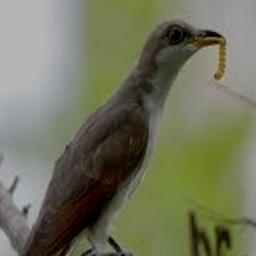Cuckoo: (0, 20, 224, 256)
